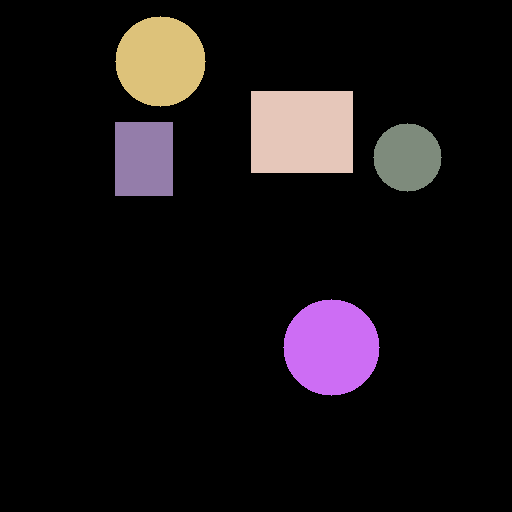circle: (283, 299, 379, 395), (115, 16, 205, 106), (373, 123, 441, 191)
rectangle: (251, 91, 352, 172), (115, 122, 172, 195)
